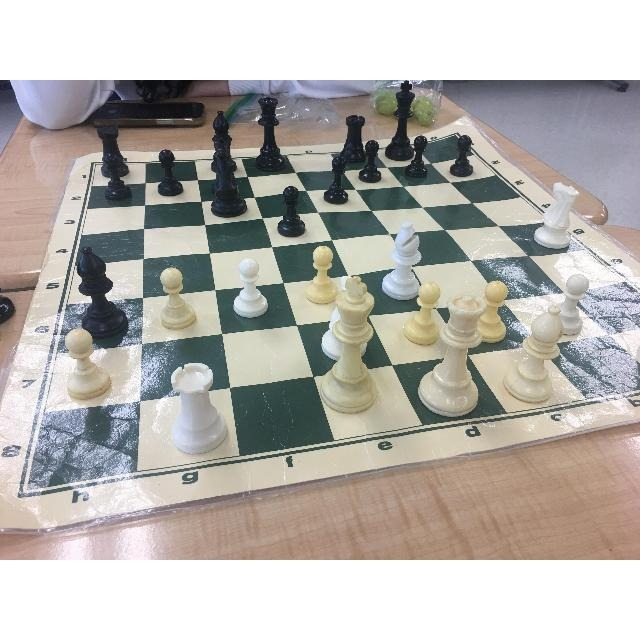black-bishop: (60, 241, 130, 337), (207, 104, 239, 143)
black-king: (393, 81, 416, 155)
black-knight: (210, 149, 244, 209)
black-pawn: (151, 150, 185, 196), (98, 149, 132, 194), (274, 184, 304, 234), (324, 150, 349, 205), (452, 132, 479, 178), (410, 131, 432, 176), (362, 138, 382, 183)
black-queen: (252, 95, 285, 169)
black-rook: (343, 108, 367, 162), (95, 118, 120, 154)
white-bishop: (529, 295, 559, 401), (392, 222, 422, 294)
white-king: (330, 281, 371, 421)
white-knight: (538, 165, 576, 261)
white-pawn: (226, 241, 276, 340), (61, 323, 111, 397), (144, 264, 197, 328), (549, 268, 589, 331), (412, 280, 440, 345), (304, 242, 336, 294), (481, 277, 508, 335)
white-queen: (443, 288, 491, 412)
white-rook: (150, 355, 243, 455)
